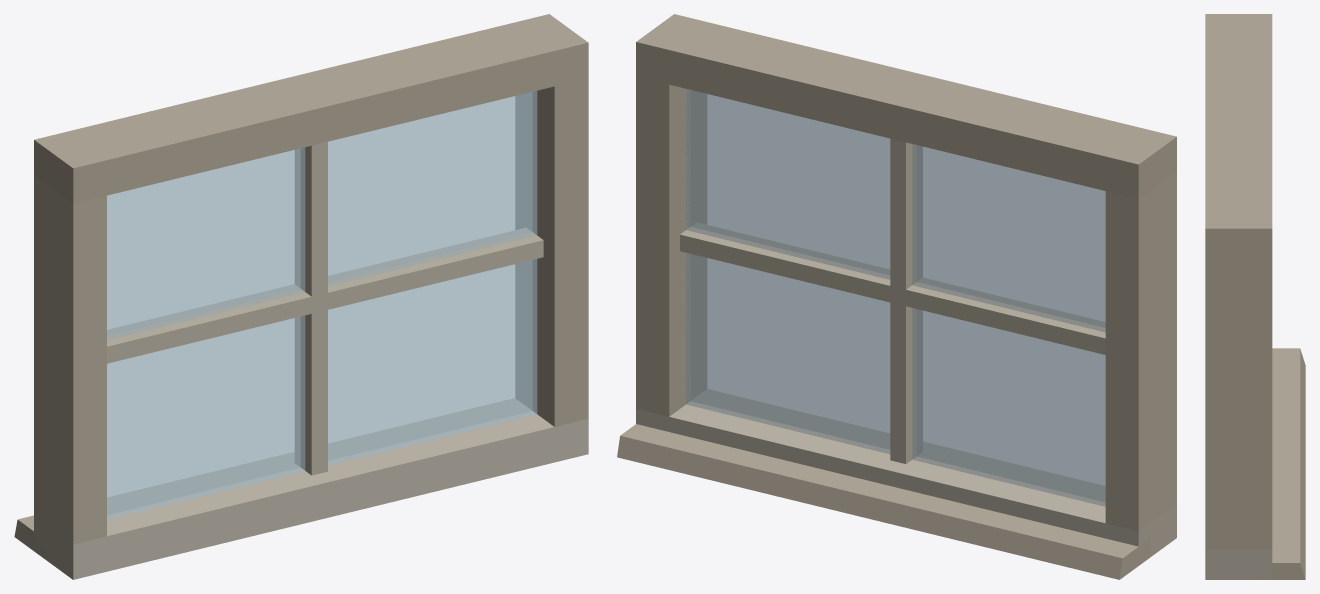
The model's file is Window.glb.
3 renders of one model, left to right at view 1: azimuth 30°, elevation 25°; view 2: azimuth 150°, elevation 25°; view 3: azimuth 270°, elevation 25°, orthographic. The views are drawn at different scales.
Parts seen in each view (by area): view 1: Wood, Glass; view 2: Wood, Glass; view 3: Wood.
Part boxes in pixels (x1,y1,x2,y2): Wood: [14, 14, 588, 579]; Glass: [107, 91, 537, 519]; Wood: [617, 14, 1176, 579]; Glass: [686, 89, 1105, 506]; Wood: [1205, 14, 1305, 579].
Size of what is drawn, in the model's own units: 3.8 by 2.9 by 0.75.
